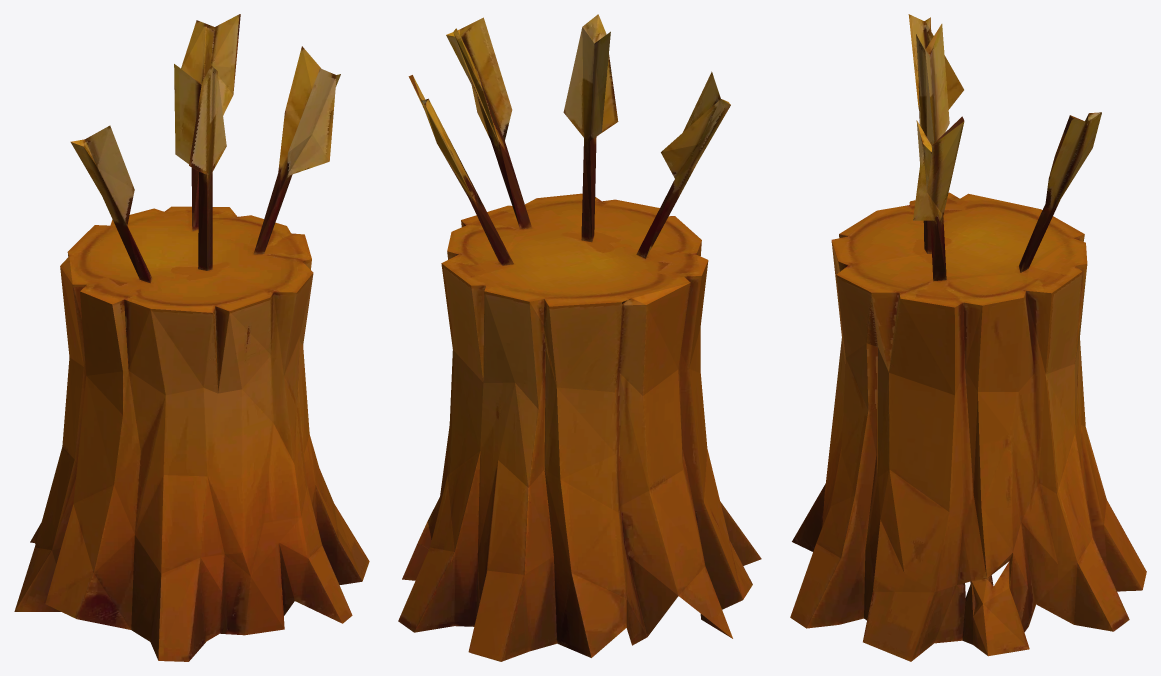
The model's file is arrow_quiver.glb.
3 renders of one model, left to right at view 1: azimuth 30°, elevation 25°; view 2: azimuth 150°, elevation 25°; view 3: azimuth 270°, elevation 25°, orthographic. The views are drawn at different scales.
Size of the model in its own units: 1.24 by 1.98 by 1.16.
1 material, 1 textured.
